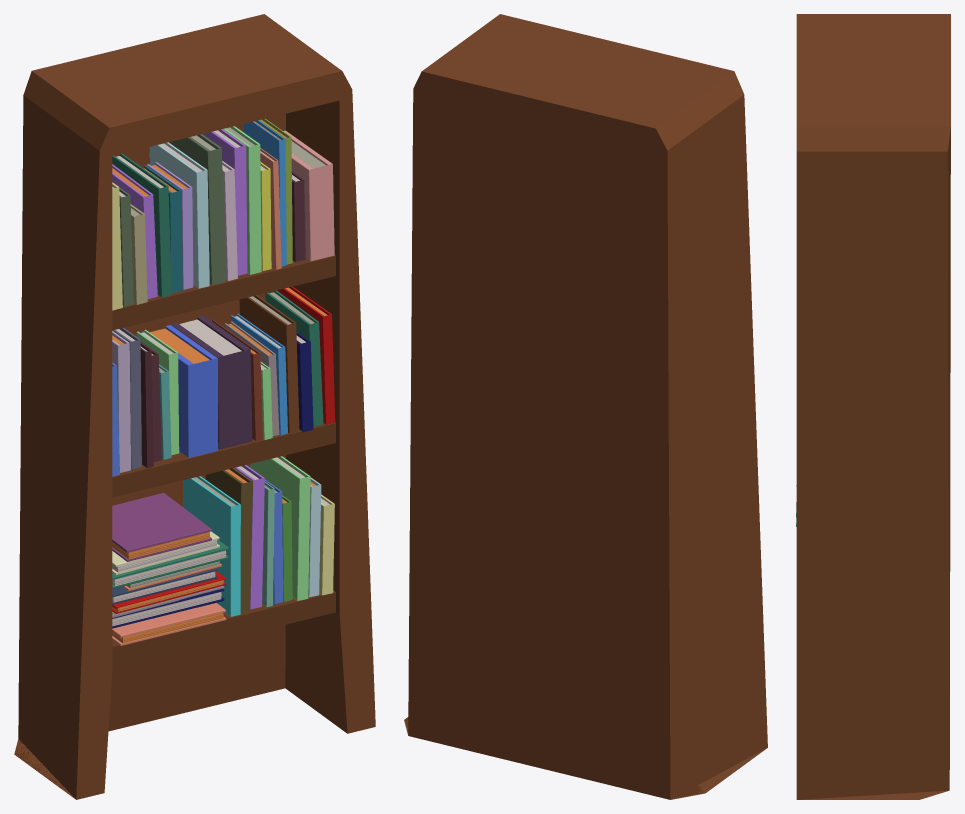
The model's file is bookshelf.fbx.
The picture shows the model from 3 angles, left to right: view 1: azimuth 30°, elevation 25°; view 2: azimuth 150°, elevation 25°; view 3: azimuth 270°, elevation 25°; orthographic projection.
Parts seen in each view (by area): view 1: Cube; view 2: Cube; view 3: Cube.
Part boxes in pixels (left/top/right/bottom): Cube: left=14, top=14, right=375, bottom=799; Cube: left=404, top=14, right=767, bottom=799; Cube: left=796, top=14, right=950, bottom=799.
Size of the model in its own units: 197 by 418 by 89.23.
